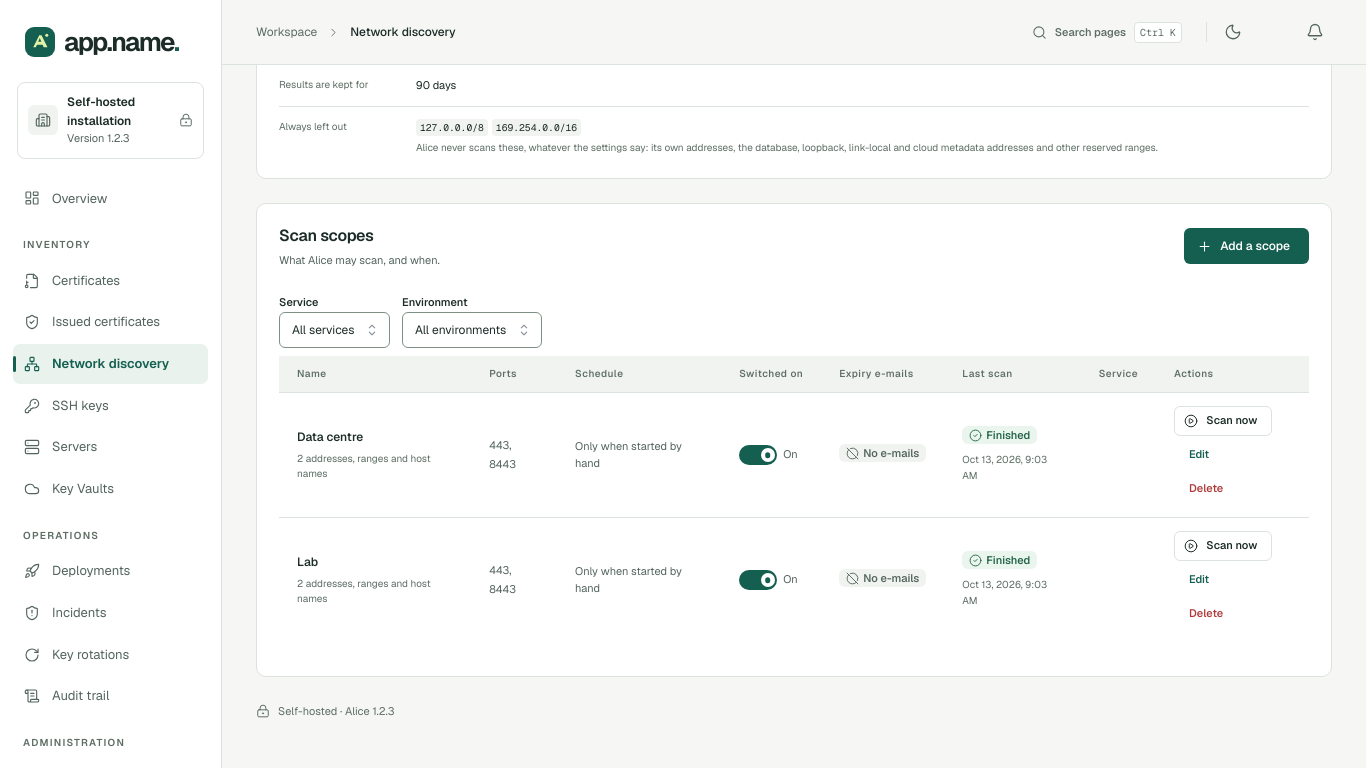
Test: Network discovery scopes › asks before deleting a scope, says what happens to its results, and the row leaves at once
This screenshot has width=1366, height=768.
(page scrolled)
Click the button with aria-label "Delete Lab" at (1206, 614), box [1174,599,1238,629]
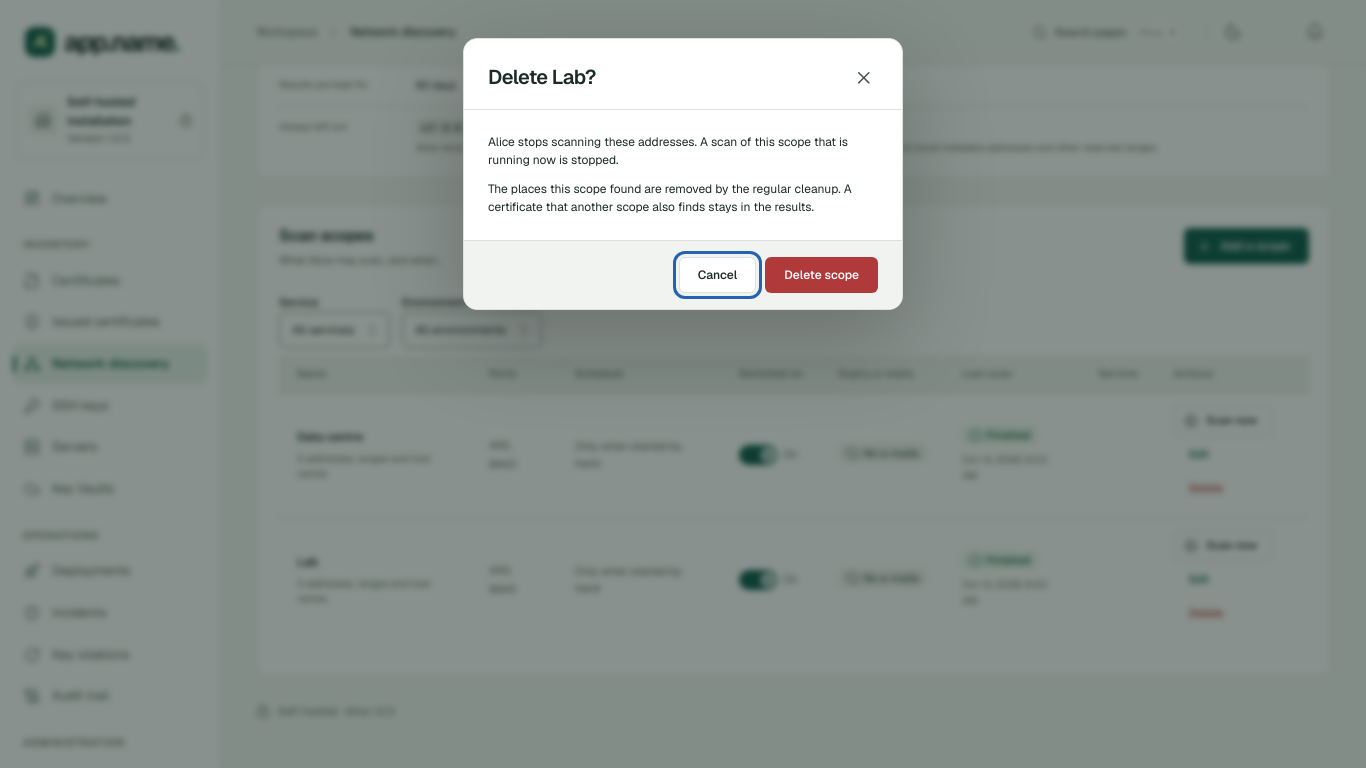
Check: the text "removed by the regular cleanup" is shown, box [488,181,852,215]
Click the button "Delete scope" at (822, 275), box [765,257,878,293]
(page scrolled)
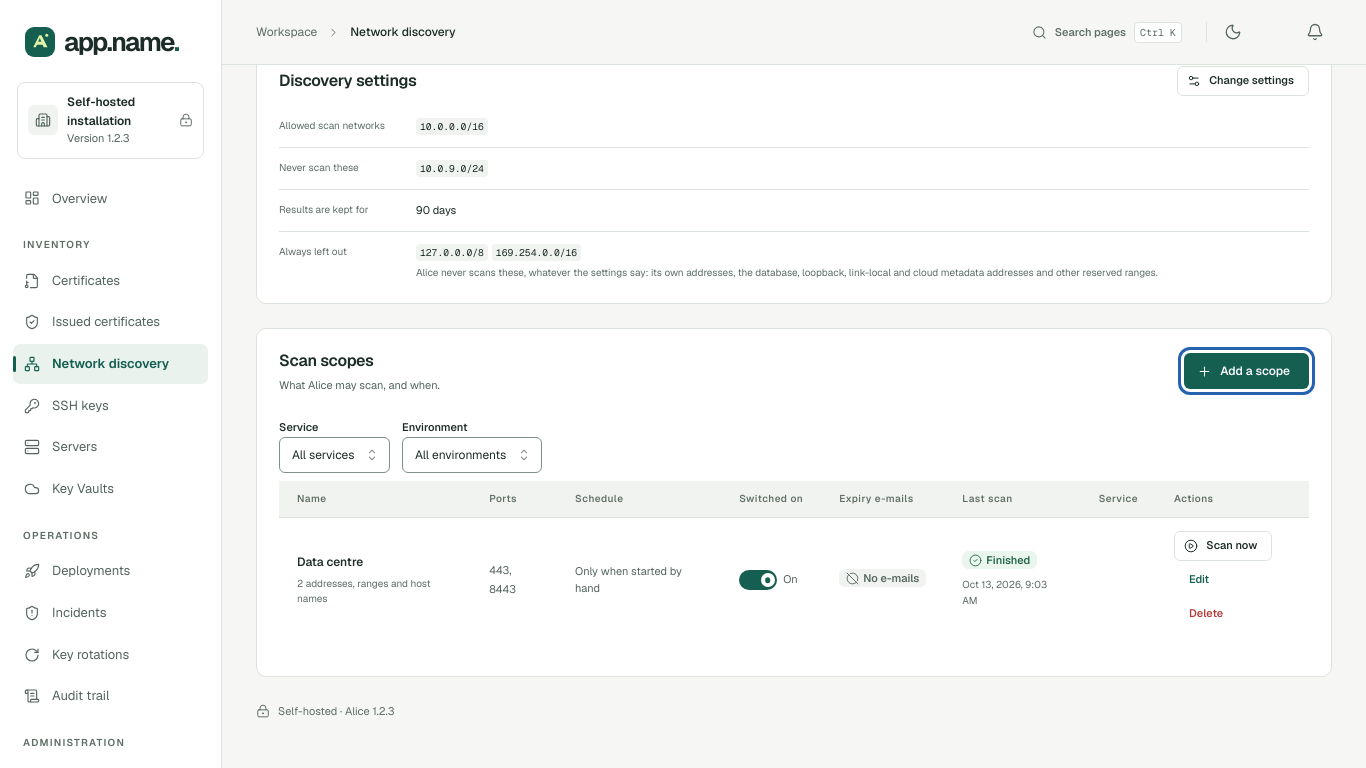
Check: the dialog is gone
Check: the table "Delete Lab" is gone
